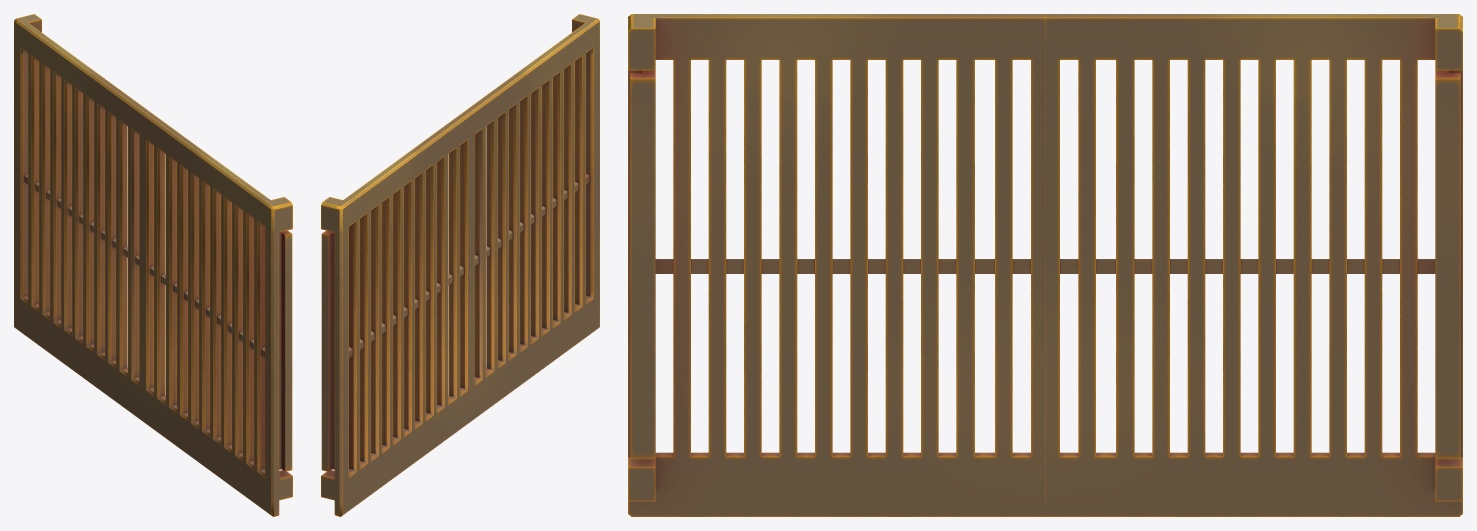
File: SM_Lattice.glb
3 renders of one model, left to right at view 1: azimuth 30°, elevation 25°; view 2: azimuth 150°, elevation 25°; view 3: azimuth 270°, elevation 25°, orthographic. The views are drawn at different scales.
Parts seen in each view (by area): view 1: SM_Lattice_LOD0; view 2: SM_Lattice_LOD0; view 3: SM_Lattice_LOD0.
Boxes of the visible parts, bbox=[...] form: SM_Lattice_LOD0: bbox=[14, 14, 292, 516]; SM_Lattice_LOD0: bbox=[321, 14, 599, 516]; SM_Lattice_LOD0: bbox=[628, 14, 1462, 516].
Size of the model in its own units: 0.1782 by 2.58 by 3.91.
1 material, 1 textured.
